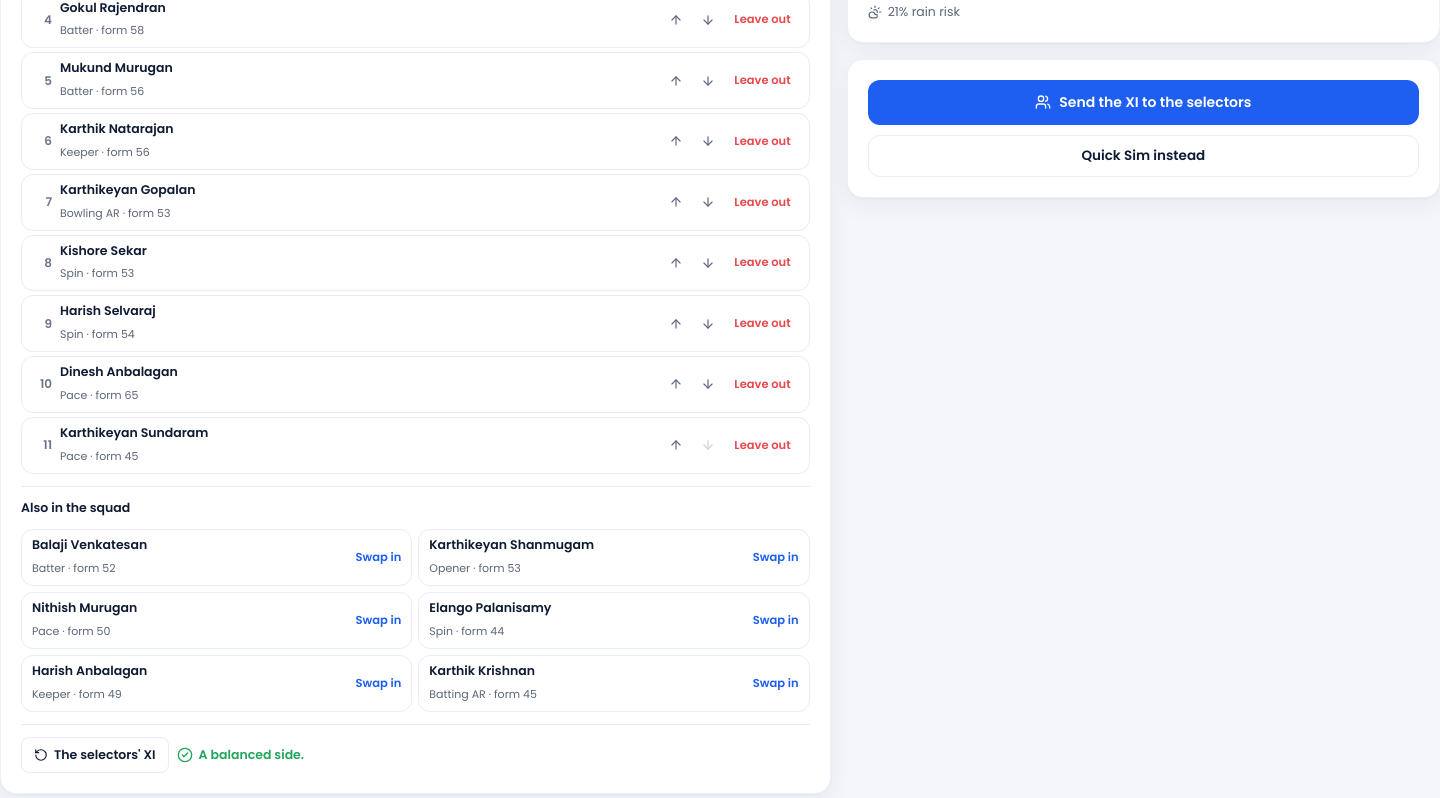
Test: match screens: captain mode › lets a captain reshape the XI before sending it to the selectors
(page scrolled)
Expected: the button "Send the XI to the selectors" is enabled, [868,80,1419,124]
Click the button "Leave out" in the row of "Karthikeyan Sundaram".
click(763, 445)  # box [726,432,799,458]
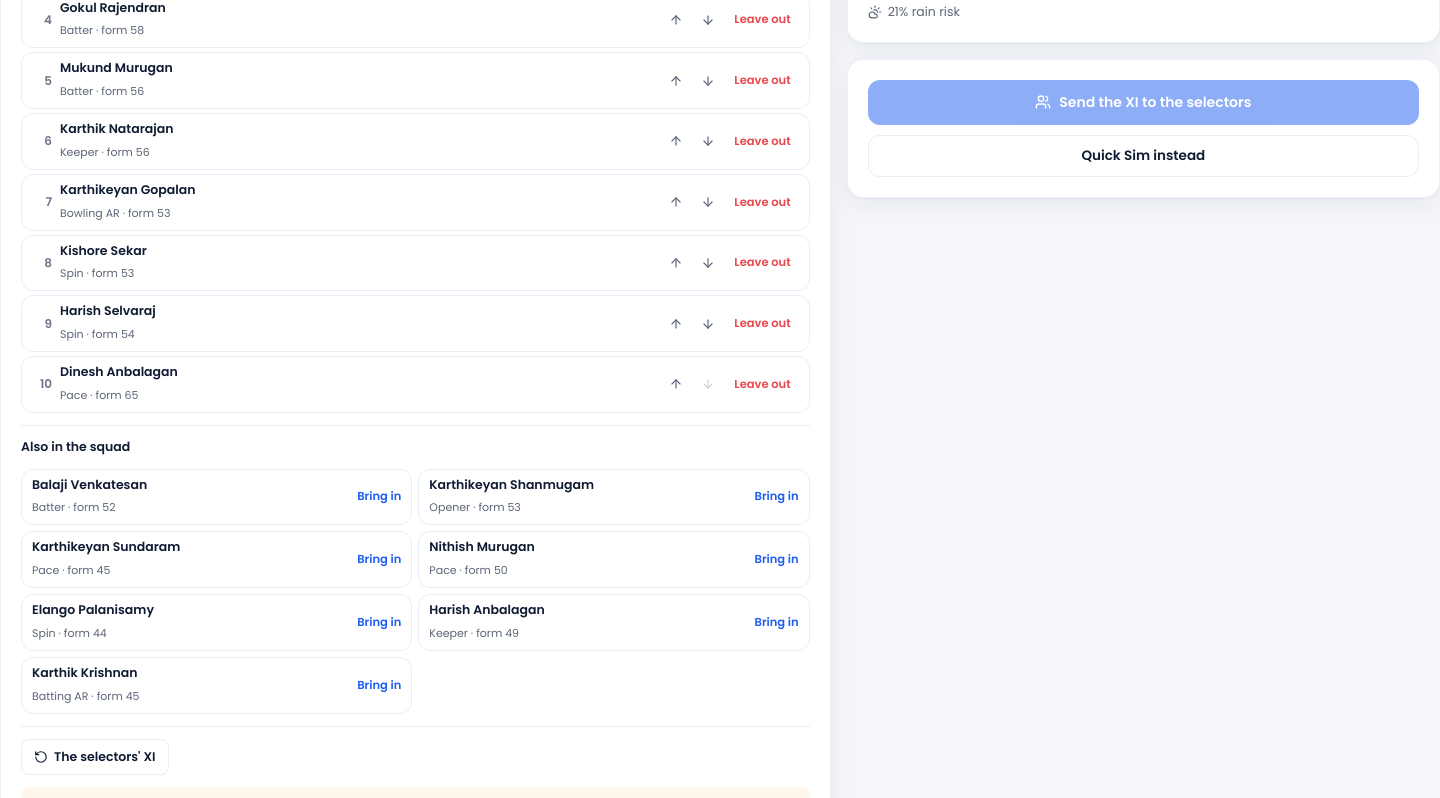
Expected: the button "Send the XI to the selectors" is disabled, [868,80,1419,124]
